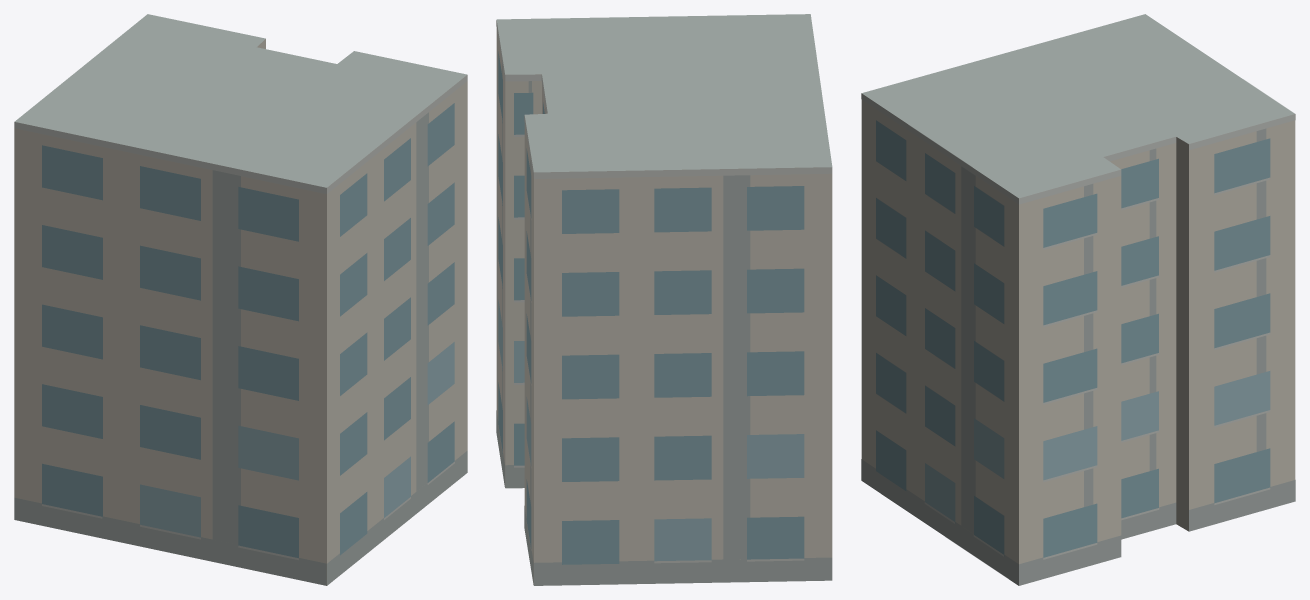
Rendered from survey-upis-33046041.glb.
The picture shows the model from 3 angles, left to right: view 1: azimuth 30°, elevation 25°; view 2: azimuth 150°, elevation 25°; view 3: azimuth 270°, elevation 25°; orthographic projection. The views are drawn at different scales.
Visible parts, largest first — view 1: survey-upis-33046041.tmp; view 2: survey-upis-33046041.tmp; view 3: survey-upis-33046041.tmp.
Part boxes in pixels (bbox=[...]): survey-upis-33046041.tmp: bbox=[14, 14, 467, 585]; survey-upis-33046041.tmp: bbox=[496, 14, 832, 585]; survey-upis-33046041.tmp: bbox=[861, 14, 1295, 585].
Size of the model in its own units: 15.52 by 15.2 by 15.44.
